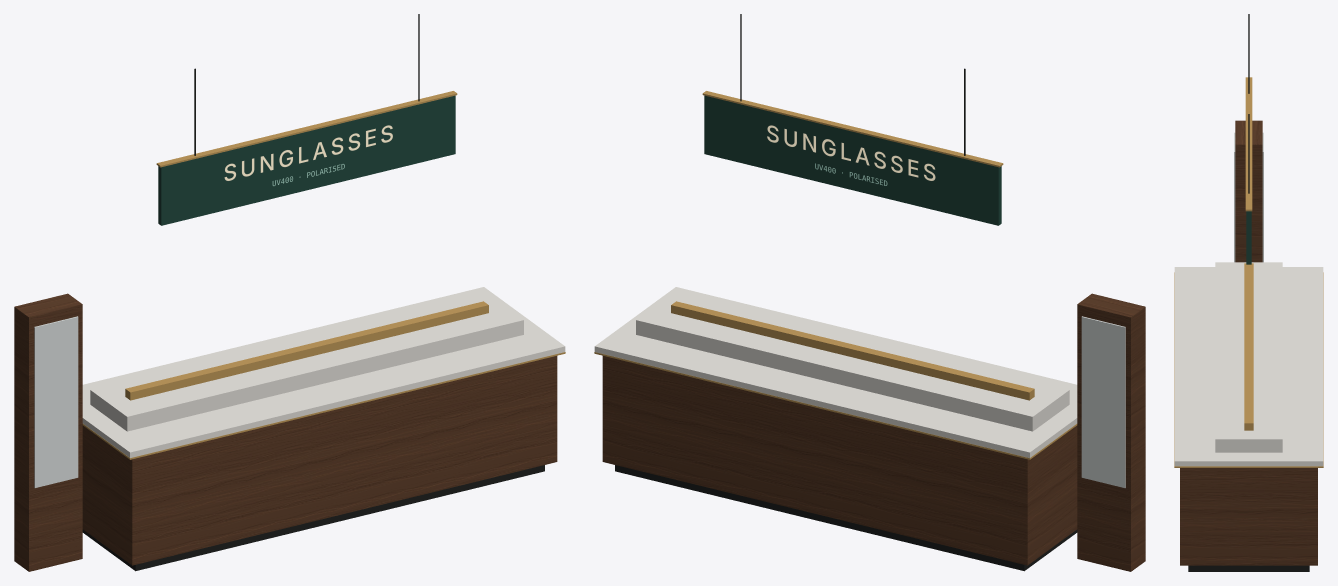
Rendered from Sunglasses_Island.glb.
3 renders of one model, left to right at view 1: azimuth 30°, elevation 25°; view 2: azimuth 150°, elevation 25°; view 3: azimuth 270°, elevation 25°, orthographic. The views are drawn at different scales.
Visible parts, largest first — view 1: Sunglasses_Island_Walnut, Sunglasses_Island_Stone, Sunglasses_Island_Green_Panels, Sunglasses_Island_Brass, Sunglasses_Island_Mirror, Sunglasses_Island_Black_Metal, Sign_SUNGLASSES; view 2: Sunglasses_Island_Walnut, Sunglasses_Island_Stone, Sunglasses_Island_Green_Panels, Sunglasses_Island_Brass, Sunglasses_Island_Mirror, Sunglasses_Island_Black_Metal, Sign_SUNGLASSES_2; view 3: Sunglasses_Island_Stone, Sunglasses_Island_Walnut, Sunglasses_Island_Brass, Sunglasses_Island_Black_Metal, Sunglasses_Island_Mirror, Sunglasses_Island_Green_Panels.
Boxes of the visible parts, left/top/right/bottom form: Sunglasses_Island_Walnut: left=14, top=293, right=557, bottom=571; Sunglasses_Island_Stone: left=82, top=287, right=565, bottom=457; Sunglasses_Island_Green_Panels: left=158, top=95, right=455, bottom=225; Sunglasses_Island_Brass: left=82, top=91, right=565, bottom=459; Sunglasses_Island_Mirror: left=34, top=316, right=78, bottom=487; Sunglasses_Island_Black_Metal: left=82, top=14, right=544, bottom=571; Sign_SUNGLASSES: left=224, top=125, right=392, bottom=186; Sunglasses_Island_Walnut: left=602, top=293, right=1145, bottom=571; Sunglasses_Island_Stone: left=594, top=287, right=1077, bottom=457; Sunglasses_Island_Green_Panels: left=704, top=95, right=1001, bottom=225; Sunglasses_Island_Brass: left=594, top=91, right=1077, bottom=459; Sunglasses_Island_Mirror: left=1081, top=316, right=1125, bottom=487; Sunglasses_Island_Black_Metal: left=615, top=14, right=1077, bottom=571; Sign_SUNGLASSES_2: left=767, top=125, right=935, bottom=185; Sunglasses_Island_Stone: left=1174, top=262, right=1323, bottom=466; Sunglasses_Island_Walnut: left=1180, top=120, right=1317, bottom=565; Sunglasses_Island_Brass: left=1174, top=77, right=1323, bottom=467; Sunglasses_Island_Black_Metal: left=1188, top=14, right=1309, bottom=571; Sunglasses_Island_Mirror: left=1234, top=132, right=1263, bottom=262; Sunglasses_Island_Green_Panels: left=1246, top=211, right=1251, bottom=264.
Bounding box in the file's own units: 3.93 × 3.4 × 1.1.
8 materials, 3 textured.
